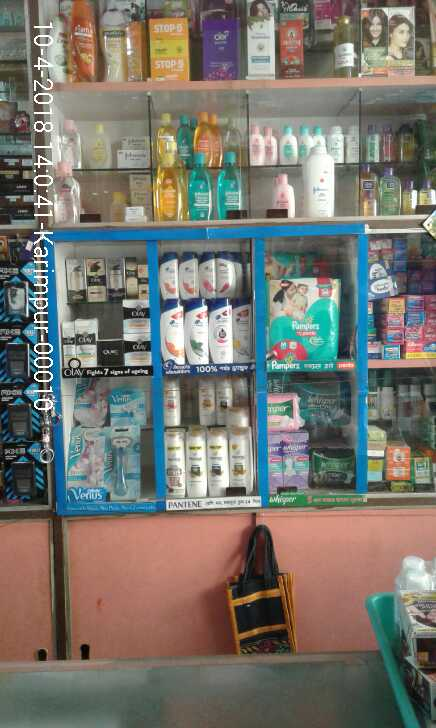venus: (67, 425, 108, 498), (108, 427, 141, 498), (74, 376, 110, 424), (110, 386, 147, 425)
